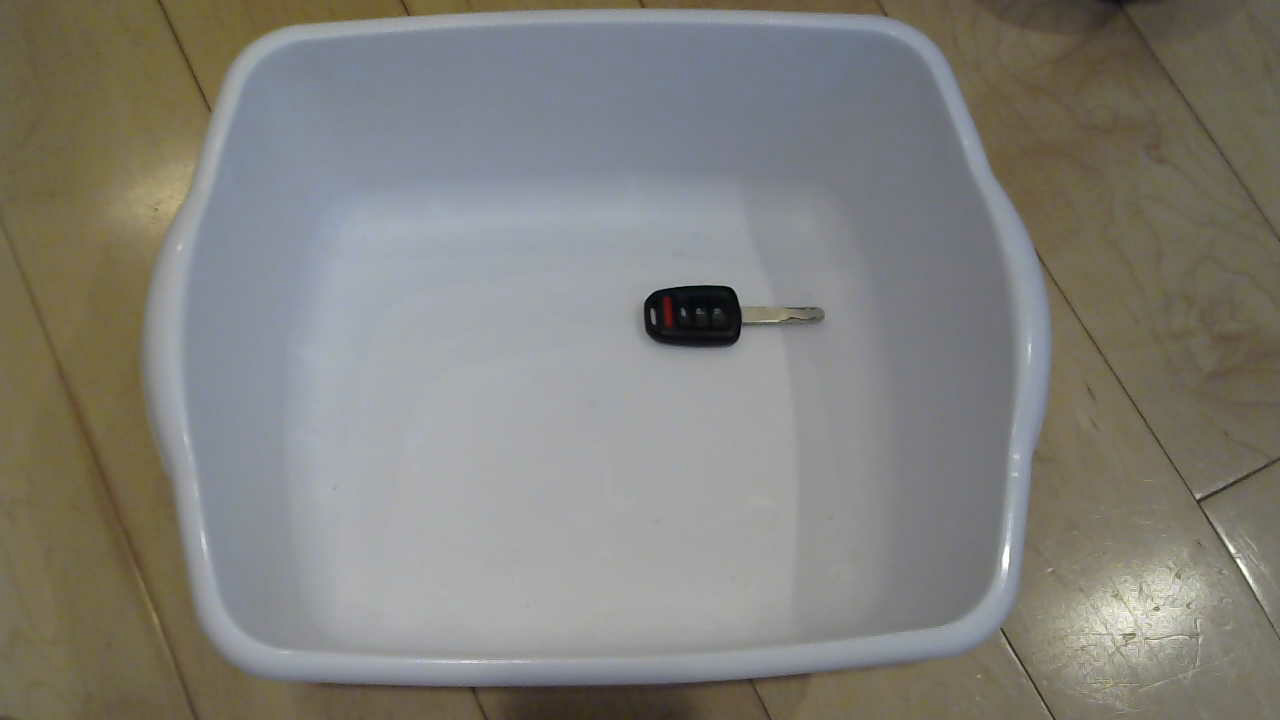key: (627, 277, 833, 366)
